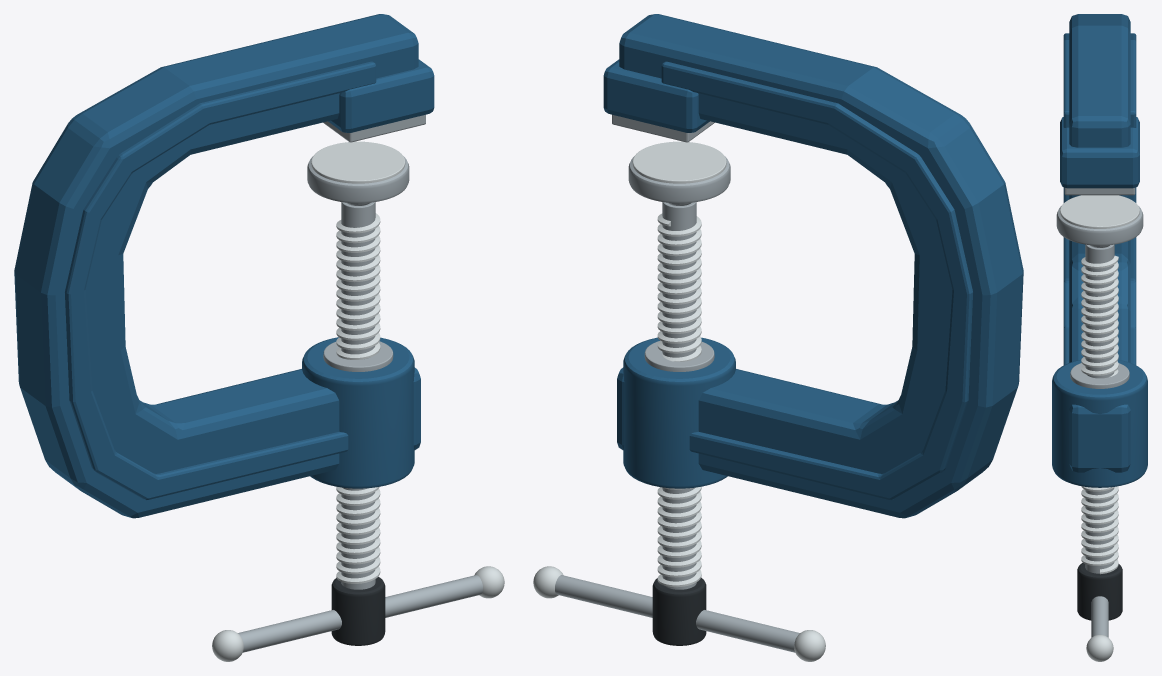
The model's file is city-c-frame-screw-clamp.glb.
3 views of the same model, side by side, from view 1: azimuth 30°, elevation 25°; view 2: azimuth 150°, elevation 25°; view 3: azimuth 270°, elevation 25° (orthographic). The views are drawn at different scales.
Visible parts, largest first — view 1: Assembly | Deep blue impact housing, Assembly | Brushed tool steel, Assembly | Machined bright edges, Assembly | Blackened hardware; view 2: Assembly | Deep blue impact housing, Assembly | Brushed tool steel, Assembly | Machined bright edges, Assembly | Blackened hardware; view 3: Assembly | Deep blue impact housing, Assembly | Machined bright edges, Assembly | Brushed tool steel, Assembly | Blackened hardware.
Boxes of the visible parts, x1,y1,x2,y2 form: Assembly | Deep blue impact housing: [14, 14, 434, 518]; Assembly | Brushed tool steel: [238, 114, 482, 652]; Assembly | Machined bright edges: [212, 141, 504, 661]; Assembly | Blackened hardware: [331, 576, 385, 645]; Assembly | Deep blue impact housing: [603, 14, 1023, 518]; Assembly | Brushed tool steel: [555, 114, 799, 652]; Assembly | Machined bright edges: [533, 141, 825, 661]; Assembly | Blackened hardware: [652, 577, 706, 645]; Assembly | Deep blue impact housing: [1052, 14, 1147, 487]; Assembly | Machined bright edges: [1060, 195, 1139, 661]; Assembly | Brushed tool steel: [1056, 188, 1143, 637]; Assembly | Blackened hardware: [1077, 563, 1122, 620].
Size of the model in its own units: 0.204 by 0.248 by 0.042.
